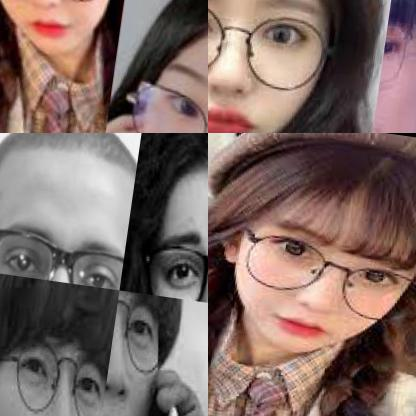Glasses: (107, 68, 207, 132)
glasses: (233, 227, 415, 332), (0, 199, 128, 289), (208, 0, 331, 88), (0, 328, 111, 415), (130, 210, 207, 314), (106, 290, 183, 389), (376, 22, 415, 106)
